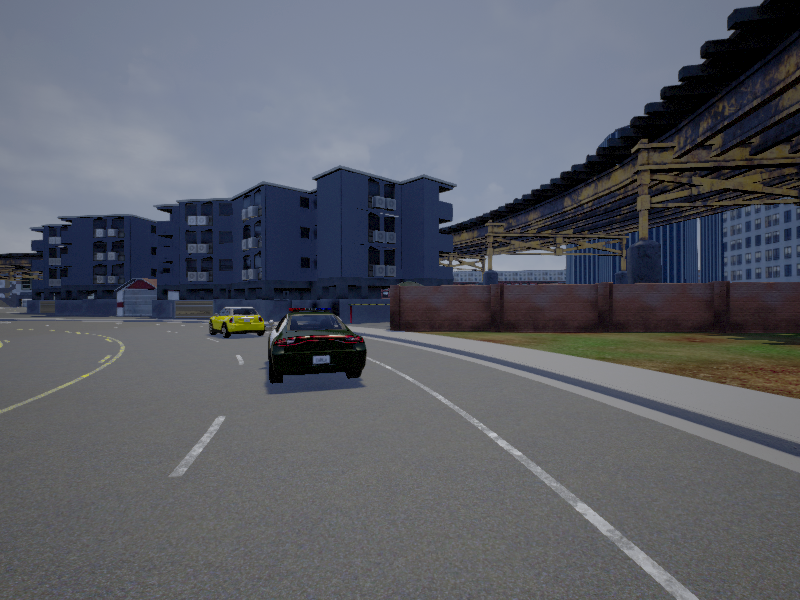Benign: (269, 308, 368, 386), (208, 305, 265, 337)
